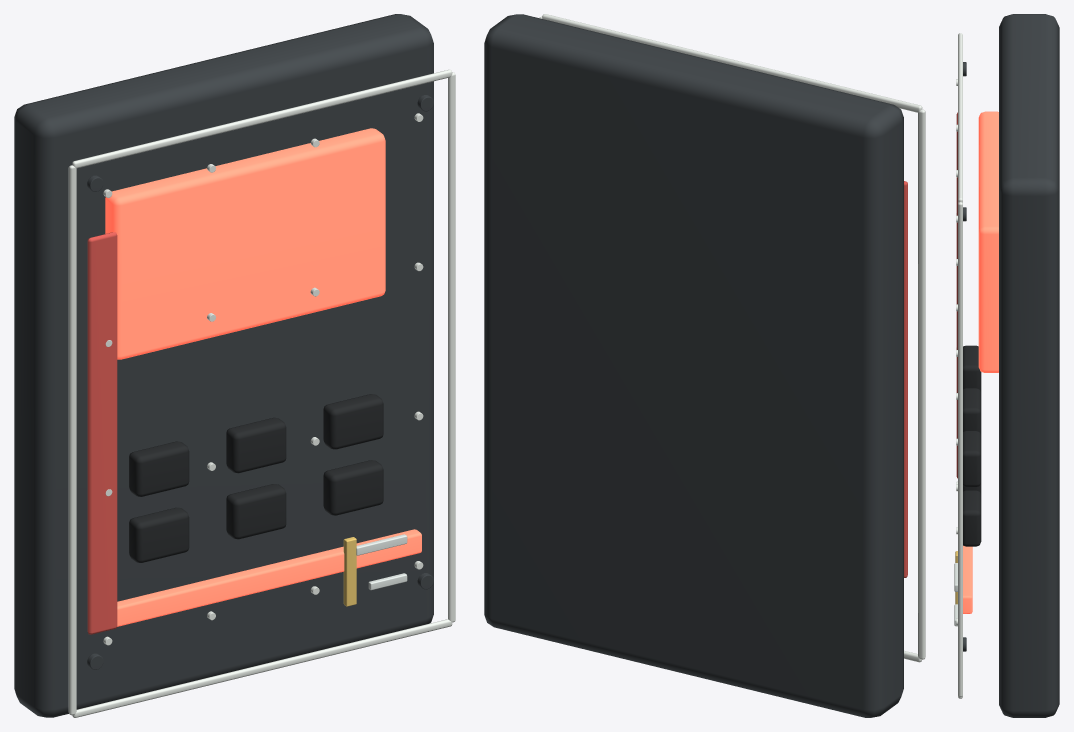
Rendered from hp_terminal_quiz_panel_red.glb.
The picture shows the model from 3 angles, left to right: view 1: azimuth 30°, elevation 25°; view 2: azimuth 150°, elevation 25°; view 3: azimuth 270°, elevation 25°; orthographic projection. The views are drawn at different scales.
Visible parts, largest first — view 1: terminal_quiz_panel_red_backplate, terminal_quiz_panel_red_screen_red, terminal_quiz_panel_red_quiz_color_spine_art_color_block, terminal_quiz_panel_red_warning_rail, terminal_quiz_panel_red_quiz_trim_trim_left, terminal_quiz_panel_red_quiz_trim_trim_right, terminal_quiz_panel_red_quiz_trim_trim_top, terminal_quiz_panel_red_quiz_trim_trim_bottom, terminal_quiz_panel_red_answer_button_2_3, terminal_quiz_panel_red_answer_button_1_3, terminal_quiz_panel_red_answer_button_2_1, terminal_quiz_panel_red_answer_button_1_1 (+3 smaller); view 2: terminal_quiz_panel_red_backplate, terminal_quiz_panel_red_quiz_trim_trim_left, terminal_quiz_panel_red_quiz_trim_trim_top, terminal_quiz_panel_red_quiz_color_spine_art_color_block; view 3: terminal_quiz_panel_red_backplate, terminal_quiz_panel_red_screen_red, terminal_quiz_panel_red_quiz_trim_trim_right, terminal_quiz_panel_red_answer_button_2_3, terminal_quiz_panel_red_answer_button_1_3, terminal_quiz_panel_red_quiz_trim_trim_top, terminal_quiz_panel_red_answer_button_1_2, terminal_quiz_panel_red_answer_button_1_1, terminal_quiz_panel_red_warning_rail, terminal_quiz_panel_red_quiz_color_spine_art_color_block.
Part boxes in pixels (x1,y1,x2,y2): terminal_quiz_panel_red_backplate: [14, 14, 433, 717]; terminal_quiz_panel_red_screen_red: [105, 128, 385, 359]; terminal_quiz_panel_red_quiz_color_spine_art_color_block: [87, 232, 117, 634]; terminal_quiz_panel_red_warning_rail: [117, 529, 421, 626]; terminal_quiz_panel_red_quiz_trim_trim_left: [68, 165, 76, 715]; terminal_quiz_panel_red_quiz_trim_trim_right: [448, 72, 455, 622]; terminal_quiz_panel_red_quiz_trim_trim_top: [72, 69, 452, 168]; terminal_quiz_panel_red_quiz_trim_trim_bottom: [72, 619, 452, 717]; terminal_quiz_panel_red_answer_button_2_3: [323, 460, 383, 515]; terminal_quiz_panel_red_answer_button_1_3: [323, 394, 383, 449]; terminal_quiz_panel_red_answer_button_2_1: [129, 507, 189, 562]; terminal_quiz_panel_red_answer_button_1_1: [129, 441, 189, 496]; terminal_quiz_panel_red_backplate: [484, 14, 903, 717]; terminal_quiz_panel_red_quiz_trim_trim_left: [918, 109, 925, 659]; terminal_quiz_panel_red_quiz_trim_trim_top: [542, 14, 922, 112]; terminal_quiz_panel_red_quiz_color_spine_art_color_block: [904, 181, 907, 577]; terminal_quiz_panel_red_backplate: [999, 14, 1059, 717]; terminal_quiz_panel_red_screen_red: [978, 111, 998, 372]; terminal_quiz_panel_red_quiz_trim_trim_right: [958, 202, 962, 696]; terminal_quiz_panel_red_answer_button_2_3: [963, 490, 981, 546]; terminal_quiz_panel_red_answer_button_1_3: [963, 431, 981, 486]; terminal_quiz_panel_red_quiz_trim_trim_top: [958, 33, 962, 202]; terminal_quiz_panel_red_answer_button_1_2: [963, 388, 981, 435]; terminal_quiz_panel_red_answer_button_1_1: [963, 345, 981, 392]; terminal_quiz_panel_red_warning_rail: [963, 545, 972, 613]; terminal_quiz_panel_red_quiz_color_spine_art_color_block: [956, 112, 957, 478].
Size of the model in its own units: 0.82 by 1.18 by 0.208.
